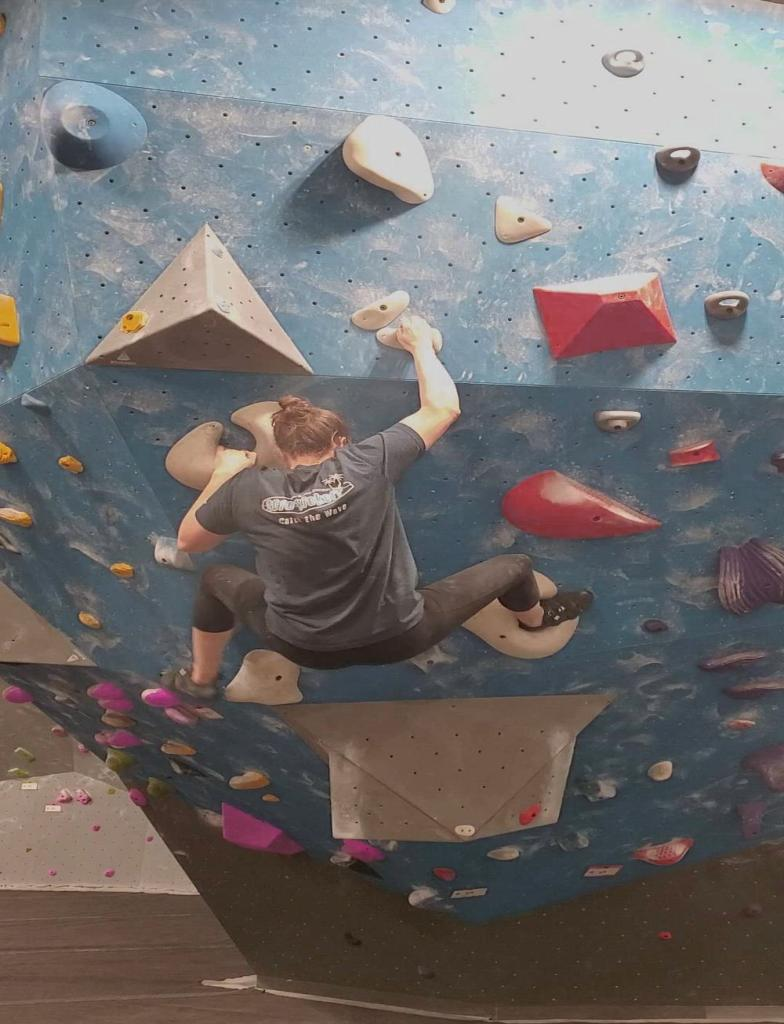crimp: (495, 196, 550, 244), (350, 291, 409, 331), (669, 441, 719, 467)
jib: (59, 455, 84, 473), (109, 563, 133, 579), (78, 612, 100, 629), (642, 620, 667, 633)
jug: (717, 539, 783, 614)
ledge: (533, 274, 677, 359)
pinch: (41, 81, 147, 172)
sidepull: (502, 470, 660, 540)
undercling: (343, 115, 434, 204)
volume: (275, 695, 611, 842), (85, 225, 311, 374)
